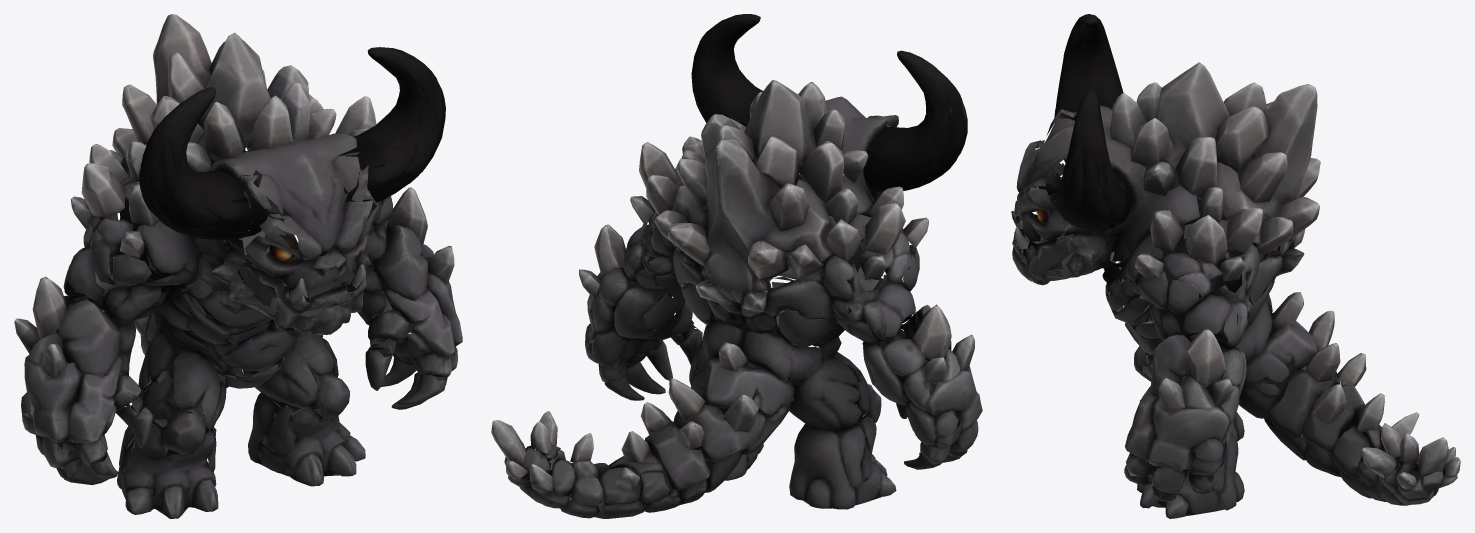
The model's file is model-roshan.glb.
3 renders of one model, left to right at view 1: azimuth 30°, elevation 25°; view 2: azimuth 150°, elevation 25°; view 3: azimuth 270°, elevation 25°, orthographic. The views are drawn at different scales.
Parts seen in each view (by area): view 1: geometry_0; view 2: geometry_0; view 3: geometry_0.
Boxes of the visible parts, box(x1,y1,x2,y2) form: geometry_0: box(14, 14, 462, 518); geometry_0: box(491, 14, 982, 518); geometry_0: box(1011, 14, 1460, 518).
Size of the model in its own units: 0.9517 by 0.9787 by 0.9668.
Materials: 1 (1 with a texture image).
